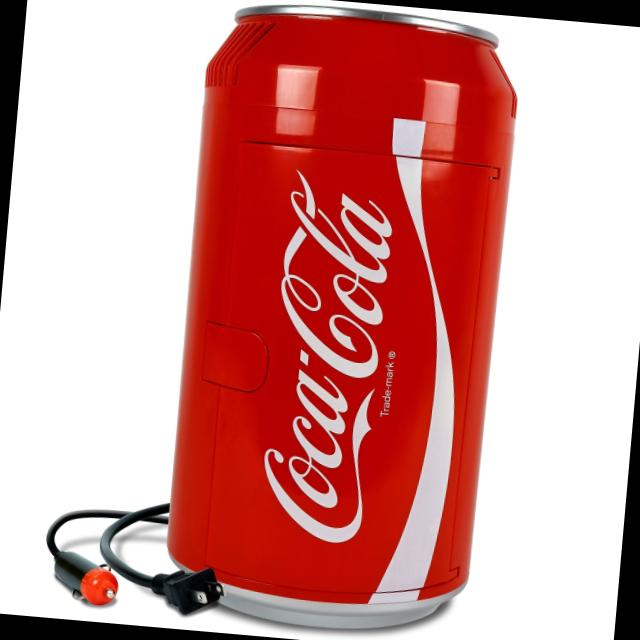cocacola: (153, 2, 516, 640)
